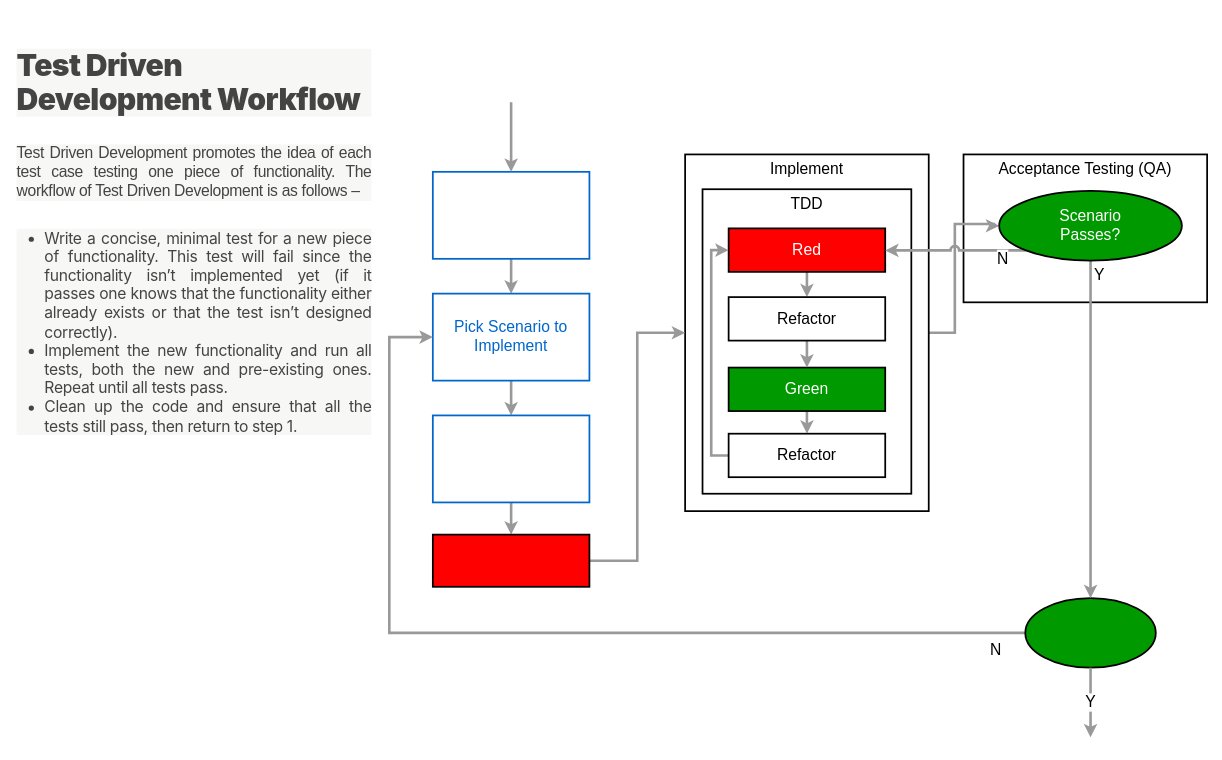
The diagram is 1222 pixels wide and 760 high, and some of its shapes have lost their labels. The centre of each missing label's shape, as x and y in pixels:
Implement Fixtures as Needed: point 511,458
Scenario Fails: point 511,560
Story Complete?: point 1090,632
Team Creates Scenarios: point 511,215
